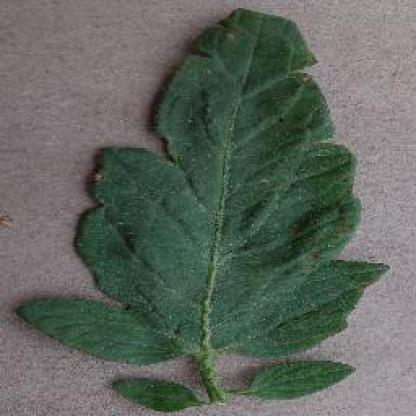bad leaf: (52, 0, 386, 415)
